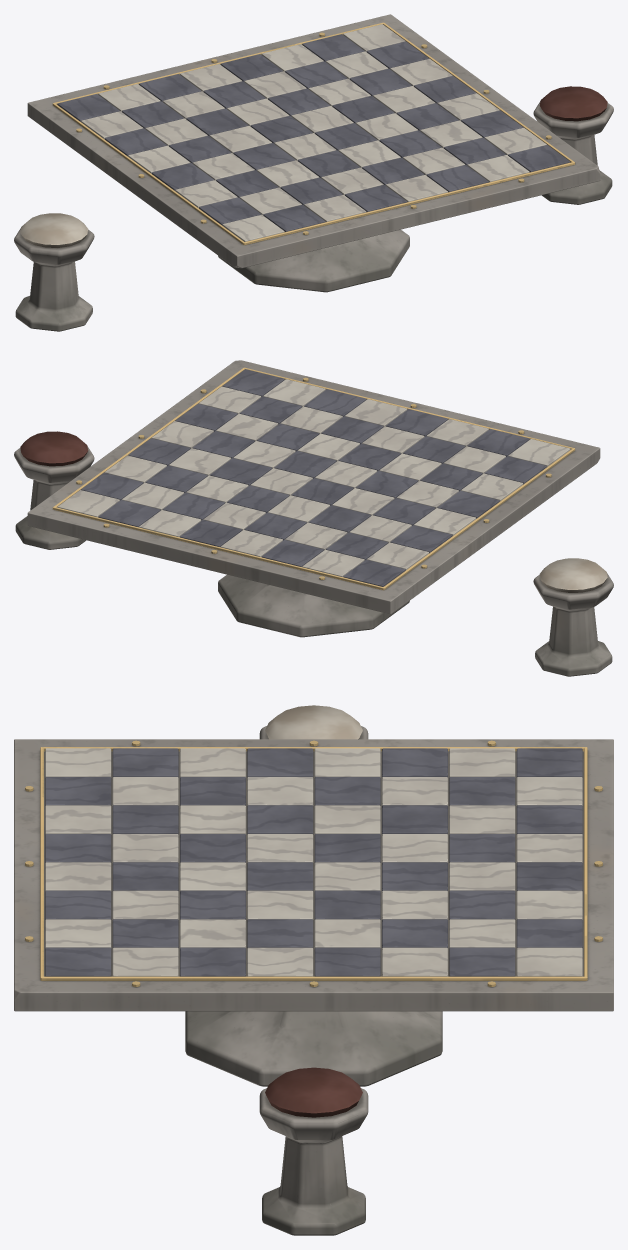
File: Chess.gltf
The picture shows the model from 3 angles, top to bottom: view 1: azimuth 30°, elevation 25°; view 2: azimuth 150°, elevation 25°; view 3: azimuth 270°, elevation 25°; orthographic projection. The views are drawn at different scales.
Parts seen in each view (by area): view 1: Table; view 2: Table; view 3: Table.
Boxes of the visible parts, x1,y1,x2,y2 form: Table: (14, 14, 613, 331); Table: (14, 360, 613, 676); Table: (14, 705, 613, 1235).
Bounding box in the file's own units: 3.15 × 0.6227 × 1.96.
Materials: 10 (10 with a texture image).
